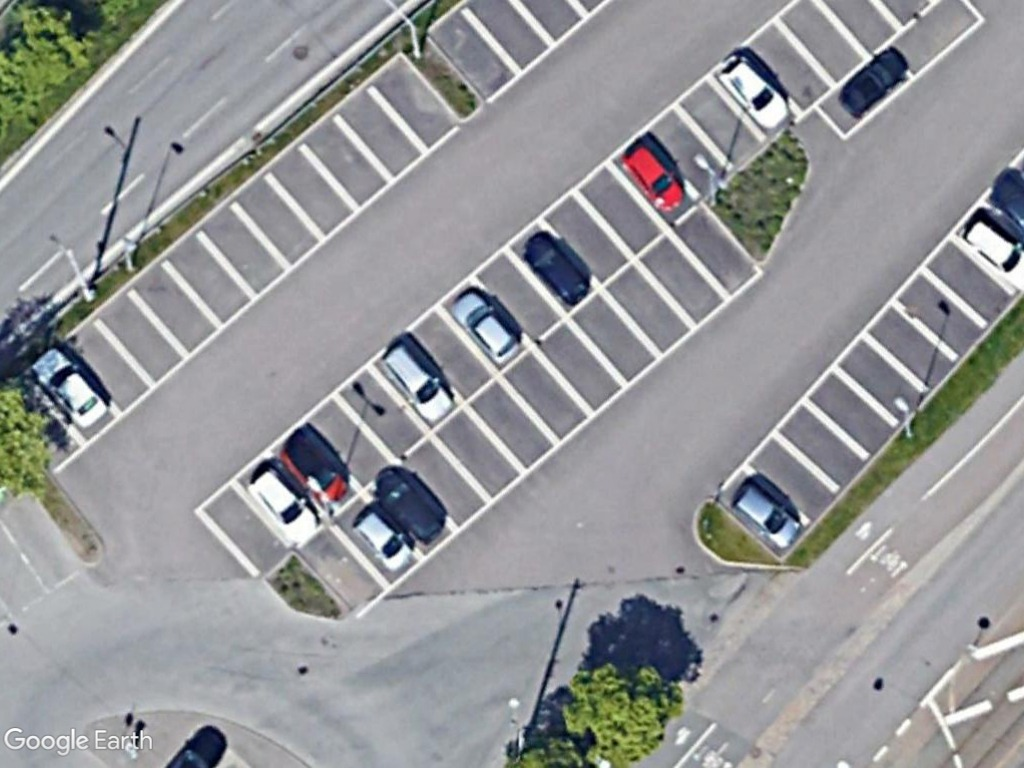car: (28, 339, 117, 432), (375, 336, 461, 429), (365, 464, 450, 545), (717, 50, 797, 131), (246, 465, 326, 545), (517, 229, 596, 309), (448, 288, 524, 368), (615, 138, 691, 216), (728, 478, 806, 554), (351, 505, 420, 576)
